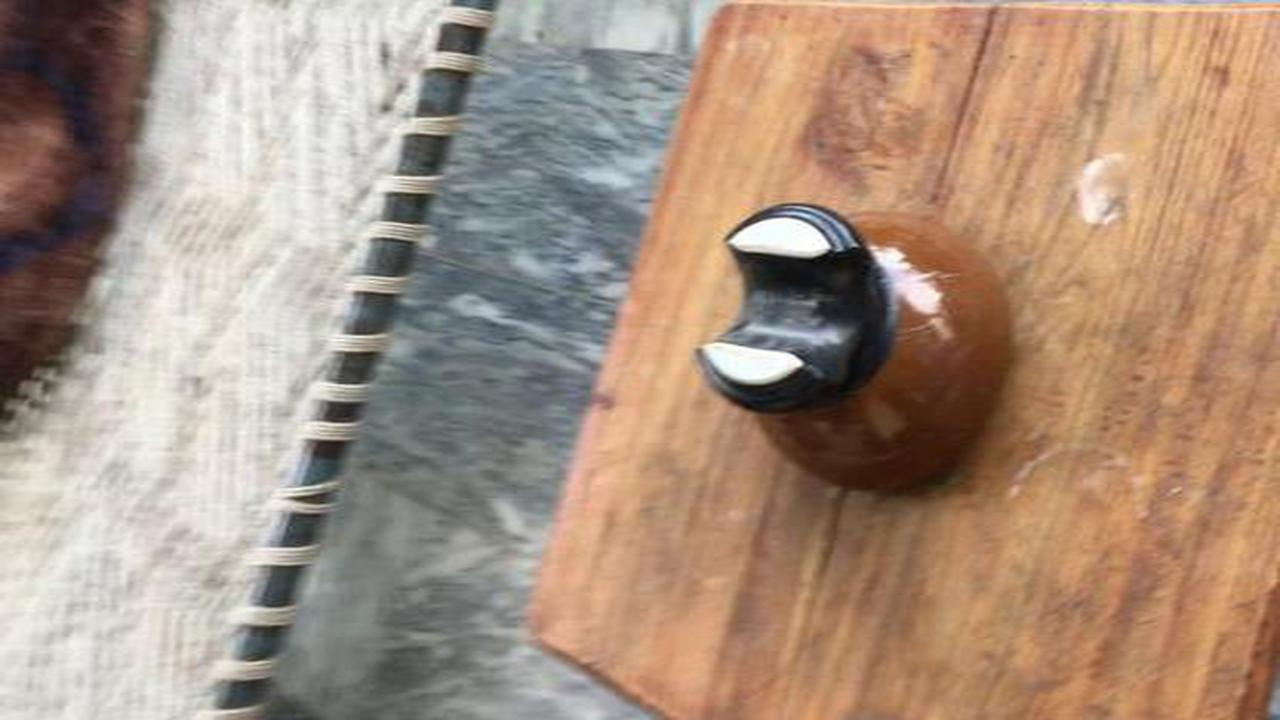insulator_pin: (681, 194, 1037, 513)
